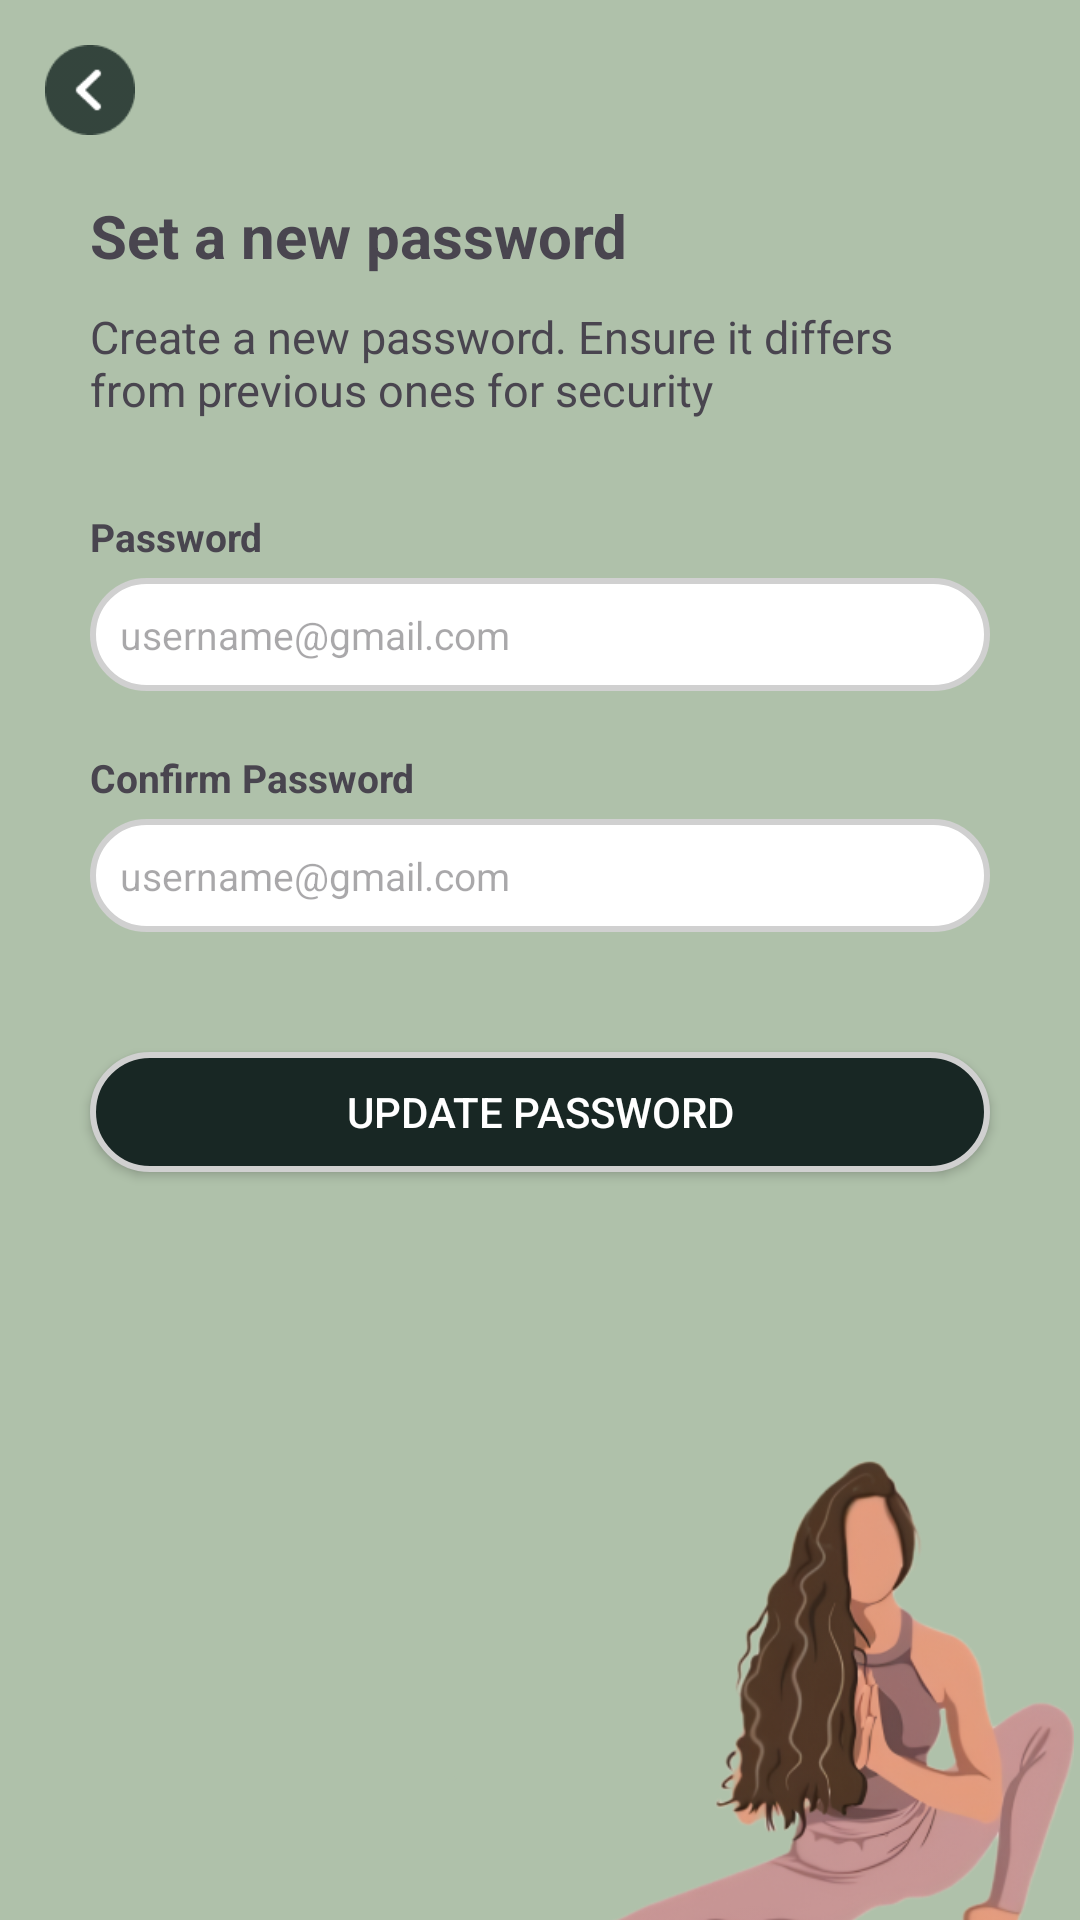

Where to tap for icons on this 1080px x 1920px app screen, as [x,y]:
goback: [90,90]
